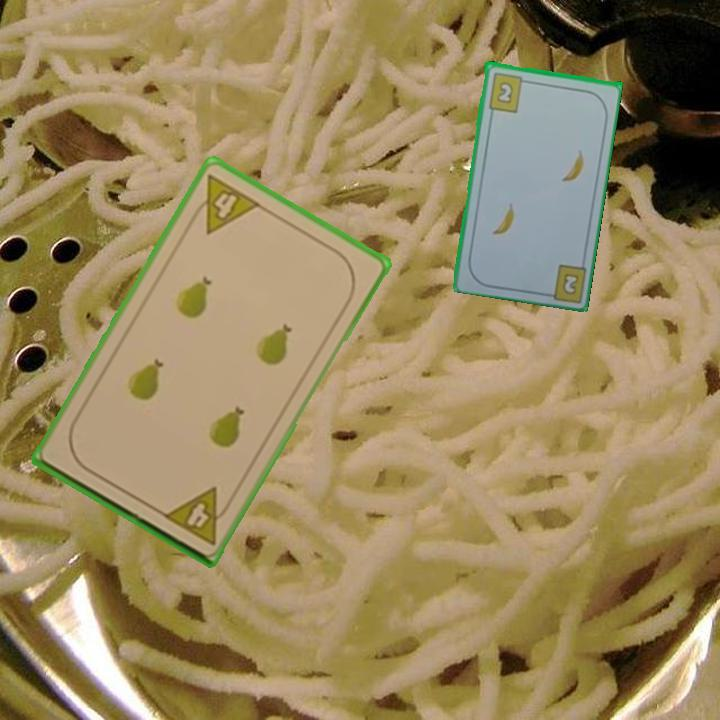2b: (485, 69, 531, 114), (559, 269, 582, 297)
4p: (185, 171, 264, 237), (159, 483, 236, 548)
